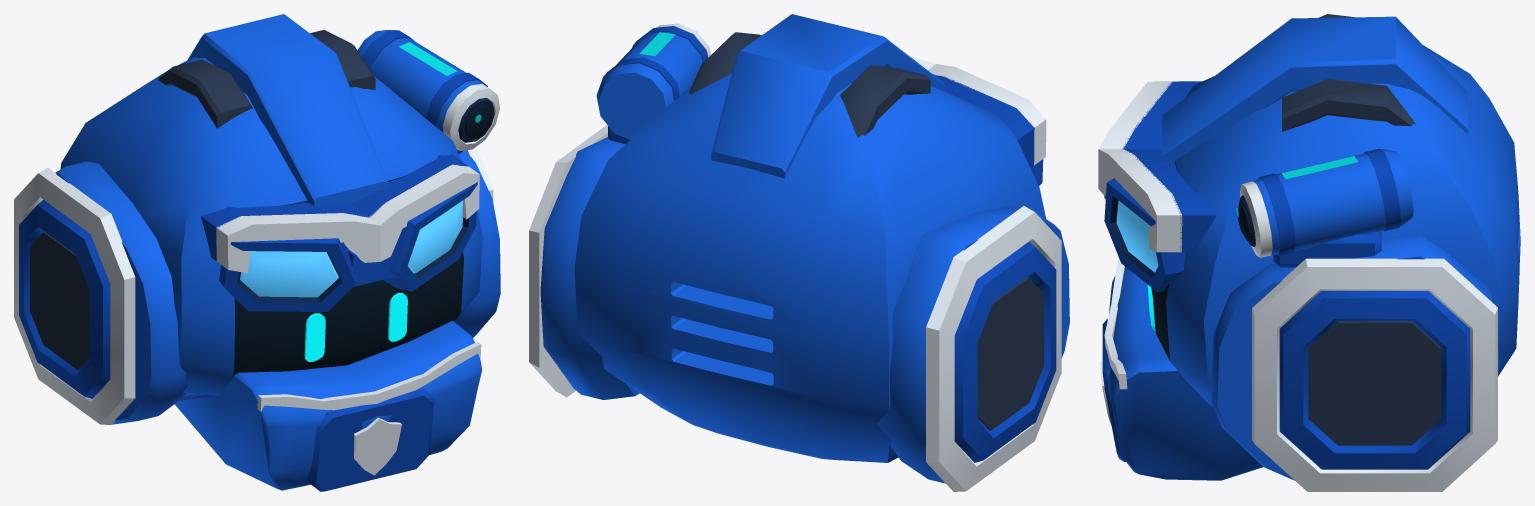
File: copilot_security_v01.glb
The picture shows the model from 3 angles, left to right: view 1: azimuth 30°, elevation 25°; view 2: azimuth 150°, elevation 25°; view 3: azimuth 270°, elevation 25°; orthographic projection. The views are drawn at different scales.
Visible parts, largest first — view 1: security_model; view 2: security_model; view 3: security_model.
Part boxes in pixels (x1,y1,x2,y2): security_model: (14,14,500,491); security_model: (529,14,1069,491); security_model: (1098,14,1520,491).
Bounding box in the file's own units: 2.61 × 2.34 × 2.23.
Materials: 2 (2 with a texture image).
